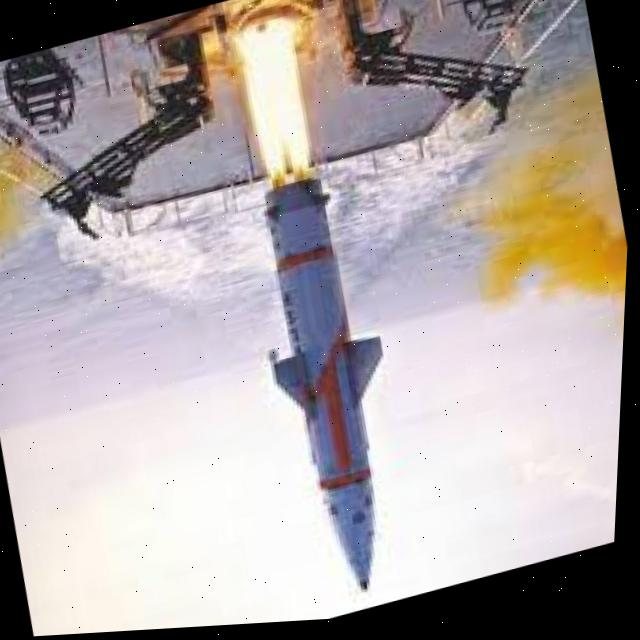missile: (224, 155, 443, 612)
